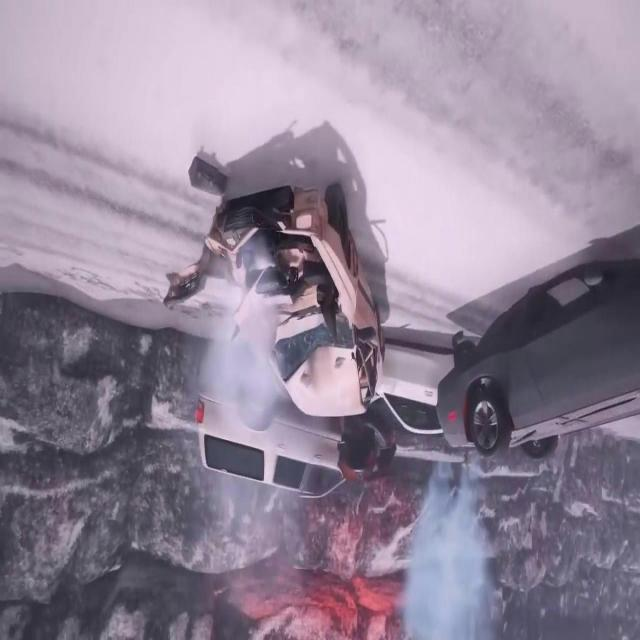severe: (433, 239, 640, 483), (191, 342, 477, 508), (202, 180, 388, 424)
